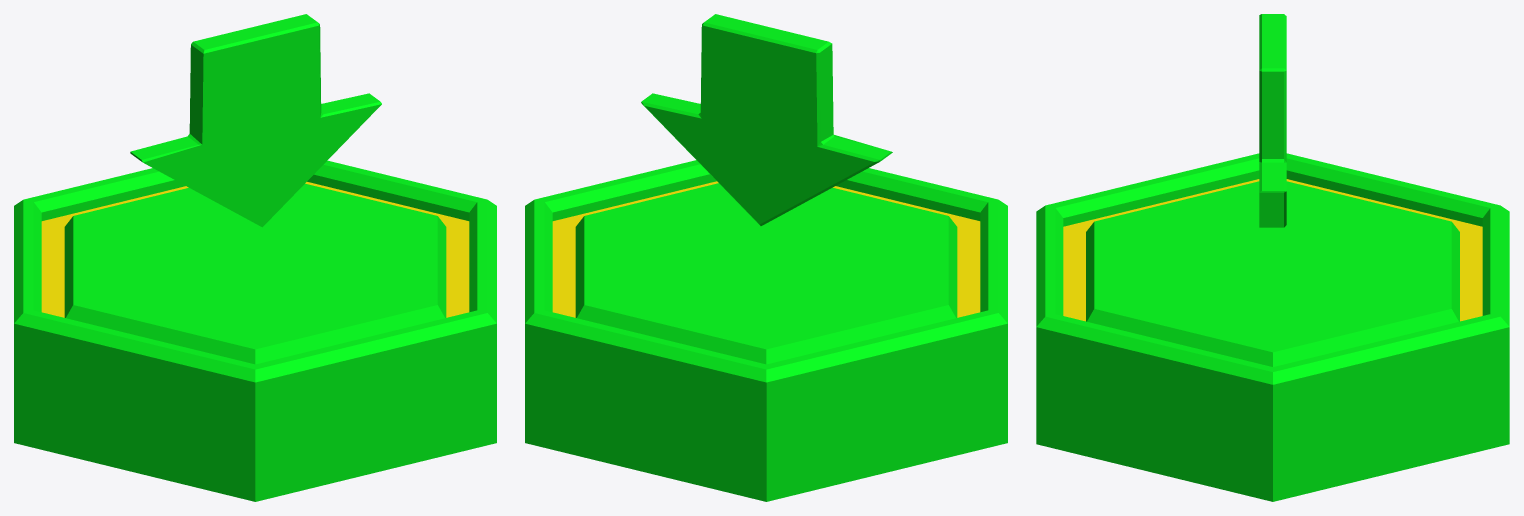
File: hex_end.glb
3 renders of one model, left to right at view 1: azimuth 30°, elevation 25°; view 2: azimuth 150°, elevation 25°; view 3: azimuth 270°, elevation 25°, orthographic.
Visible parts, largest first — view 1: tile, arrow, Cylinder; view 2: tile, arrow, Cylinder; view 3: tile, arrow, Cylinder.
Boxes of the visible parts, bbox=[...] form: tile: bbox=[14, 160, 496, 501]; arrow: bbox=[130, 14, 381, 227]; Cylinder: bbox=[41, 182, 469, 317]; tile: bbox=[525, 160, 1007, 501]; arrow: bbox=[641, 14, 892, 225]; Cylinder: bbox=[552, 181, 980, 317]; tile: bbox=[1036, 153, 1509, 501]; arrow: bbox=[1259, 14, 1286, 227]; Cylinder: bbox=[1063, 179, 1482, 321].
Bounding box in the file's own units: 2 × 1.39 × 1.73.
